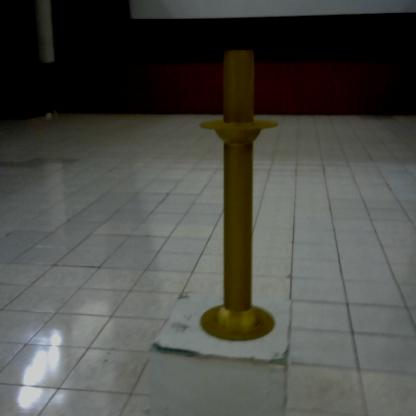pole: (193, 40, 282, 350)
